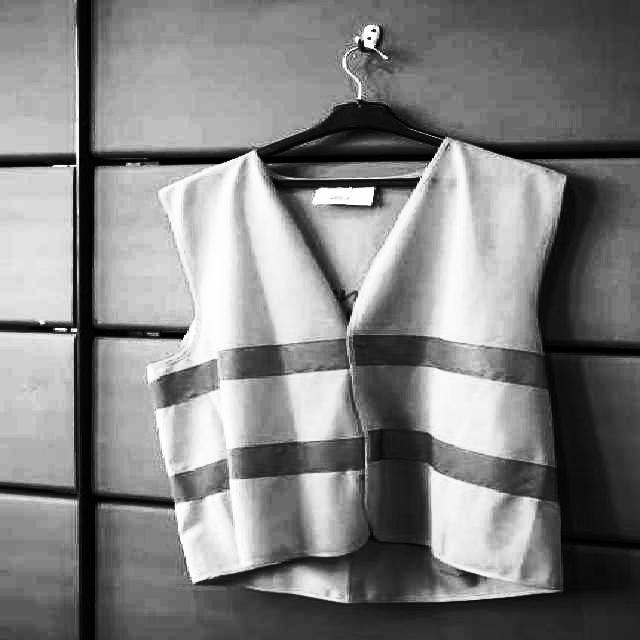2 gilet: (136, 124, 592, 612)
